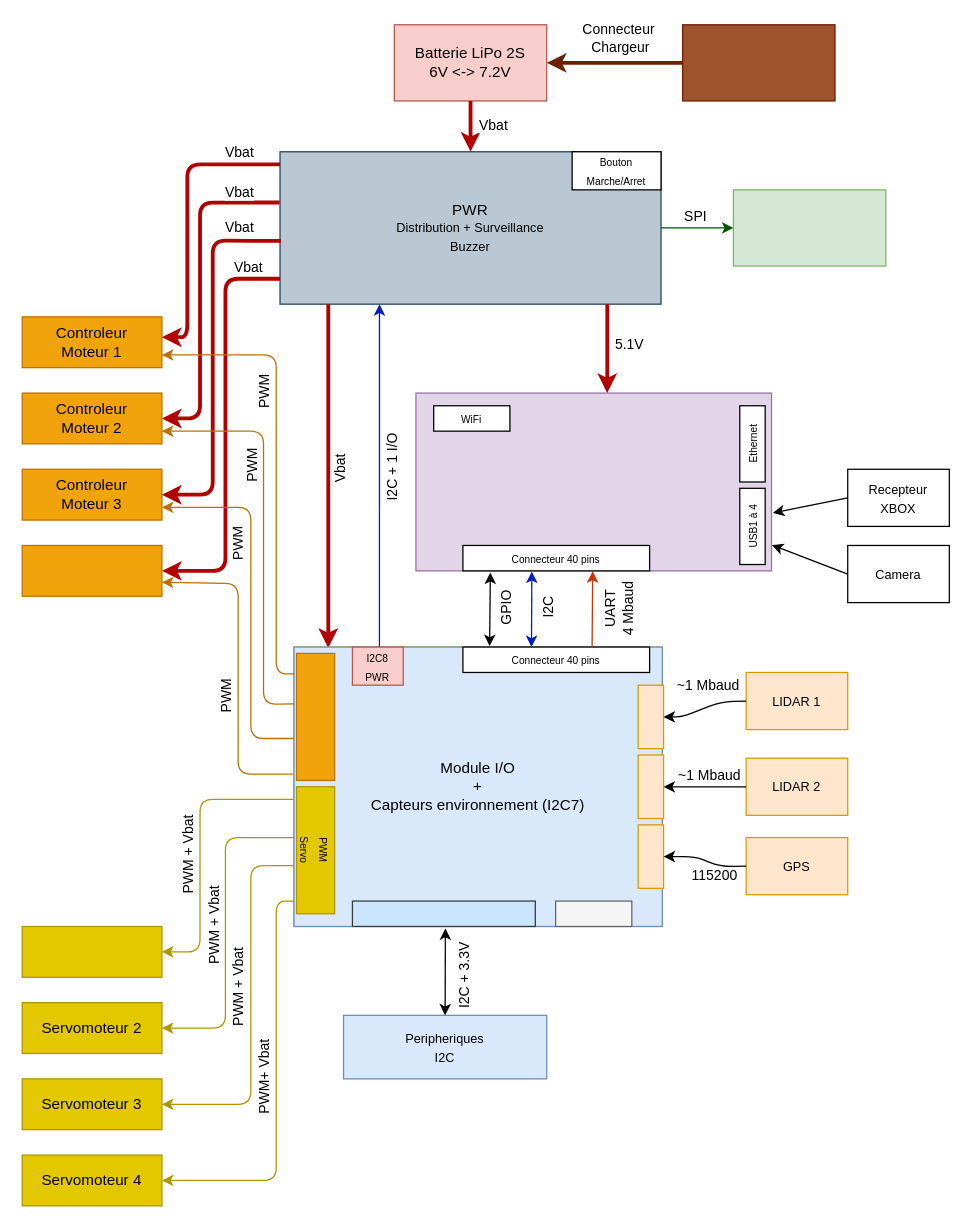
Some shapes in this 972 by 1228 pixel diagram are drawn without their labels. The box of each missing label's shape, as (x1, y1, x2, y2) in pixels:
4 GPIO: (554, 900, 632, 926)
Chargeur externe: (681, 23, 835, 101)
Controleur Moteur 4: (21, 544, 162, 596)
Ecran OLED Affichage Vbat: (732, 189, 886, 266)
I2C1 à 6: (351, 900, 535, 926)
Jetson Orin Nano ou Raspberry Pi (Linux + ROS2): (415, 392, 772, 571)
PWM Moteurs: (295, 652, 335, 780)
Servomoteur 1: (21, 925, 162, 977)
UART1: (637, 684, 664, 749)
UART2: (637, 754, 664, 819)
UART3: (637, 824, 664, 888)
